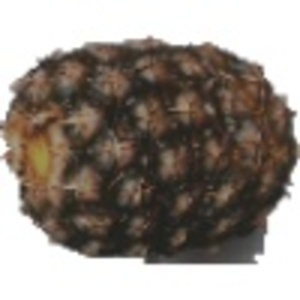abacaxi: (3, 36, 296, 256)
